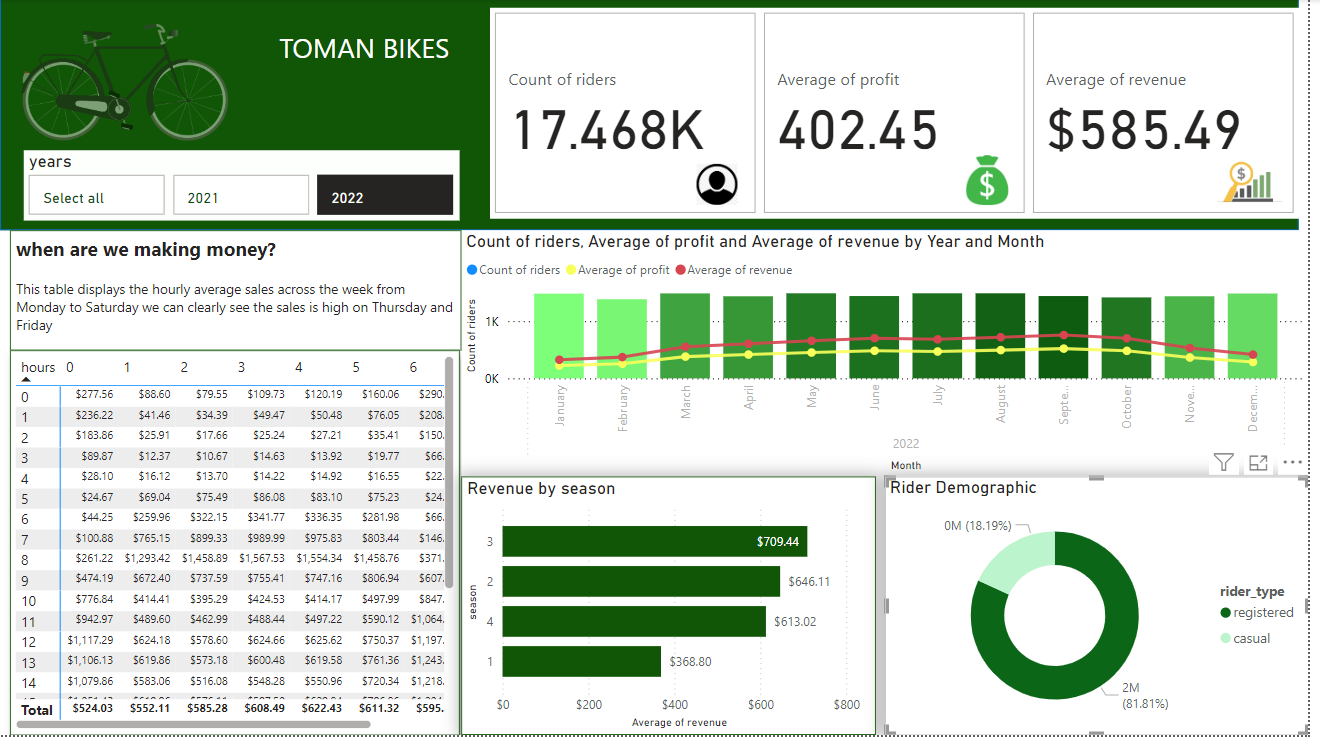

What the dashboard file says about the page in this screenshot:
{"tool":"powerbi","page":{"name":"Page 1","canvas":[1280,720],"ordinal":0},"visuals":[{"type":"shape","box":[0,0,1270.5,226.2],"z":0},{"type":"cardVisual","fields":{"Data":["Min(Query1.weekday)"]},"box":[0,0,248.2,167.5],"z":1000},{"type":"pivotTable","fields":{"Rows":["Query1.hr"],"Values":["Avg(Query1.revenue)"],"Columns":["Query1.weekday"]},"box":[9.8,343.6,440.2,376.6],"z":2000},{"type":"lineClusteredColumnComboChart","fields":{"Category":["Query1.dteday.Variation.Date Hierarchy.Year","Query1.dteday.Variation.Date Hierarchy.Month","Query1.dteday.Variation.Date Hierarchy.Day"],"Y":["CountNonNull(Query1.riders)"],"Y2":["Avg(Query1.profit)","Avg(Query1.revenue)"]},"box":[451.2,226.2,829.1,240.9],"z":3000},{"type":"textbox","box":[9.8,226.2,441.4,117.4],"z":4000},{"type":"barChart","title":"Revenue by season","fields":{"Category":["Query1.season"],"Y":["Avg(Query1.revenue)"]},"box":[451.2,467.1,406,253.1],"z":5000},{"type":"donutChart","title":"Rider Demographic","fields":{"Category":["Query1.rider_type"],"Y":["Sum(Query1.riders)"]},"box":[865.8,467.1,414.5,253.1],"z":6000},{"type":"cardVisual","fields":{"Data":["CountNonNull(Query1.riders)","Avg(Query1.profit)","Avg(Query1.revenue)"]},"box":[479.4,8.6,792.4,206.7],"z":7000},{"type":"image","box":[654.2,156.5,94.2,50.1],"z":8000},{"type":"image","box":[1186.1,141.8,73.4,73.4],"z":9000},{"type":"image","box":[934.2,148,63.6,58.7],"z":10000},{"type":"advancedSlicerVisual","fields":{"Values":["Query1.years"]},"box":[23.2,148,426.8,68.5],"z":10001},{"type":"textbox","box":[262.9,24.5,187.1,48.9],"z":10002}]}

Visuals, with their boxes in screenshot pixels (x1, y1, x2, y2), scaled from the page's 1280x720 canvas onto the 1320x742 screenshot:
shape: l=0, t=0, r=1310, b=233
cardVisual - Min(Query1.weekday): l=0, t=0, r=256, b=173
pivotTable - Query1.hr x Avg(Query1.revenue): l=10, t=354, r=464, b=741
lineClusteredColumnComboChart - Query1.dteday.Variation.Date Hierarchy.Year x Query1.dteday.Variation.Date Hierarchy.Month: l=465, t=233, r=1319, b=481
textbox: l=10, t=233, r=465, b=354
"Revenue by season" barChart: l=465, t=481, r=884, b=741
"Rider Demographic" donutChart: l=893, t=481, r=1319, b=741
cardVisual - CountNonNull(Query1.riders) x Avg(Query1.profit): l=494, t=9, r=1312, b=222
image: l=675, t=161, r=772, b=213
image: l=1223, t=146, r=1299, b=222
image: l=963, t=153, r=1029, b=213
advancedSlicerVisual - Query1.years: l=24, t=153, r=464, b=223
textbox: l=271, t=25, r=464, b=76
